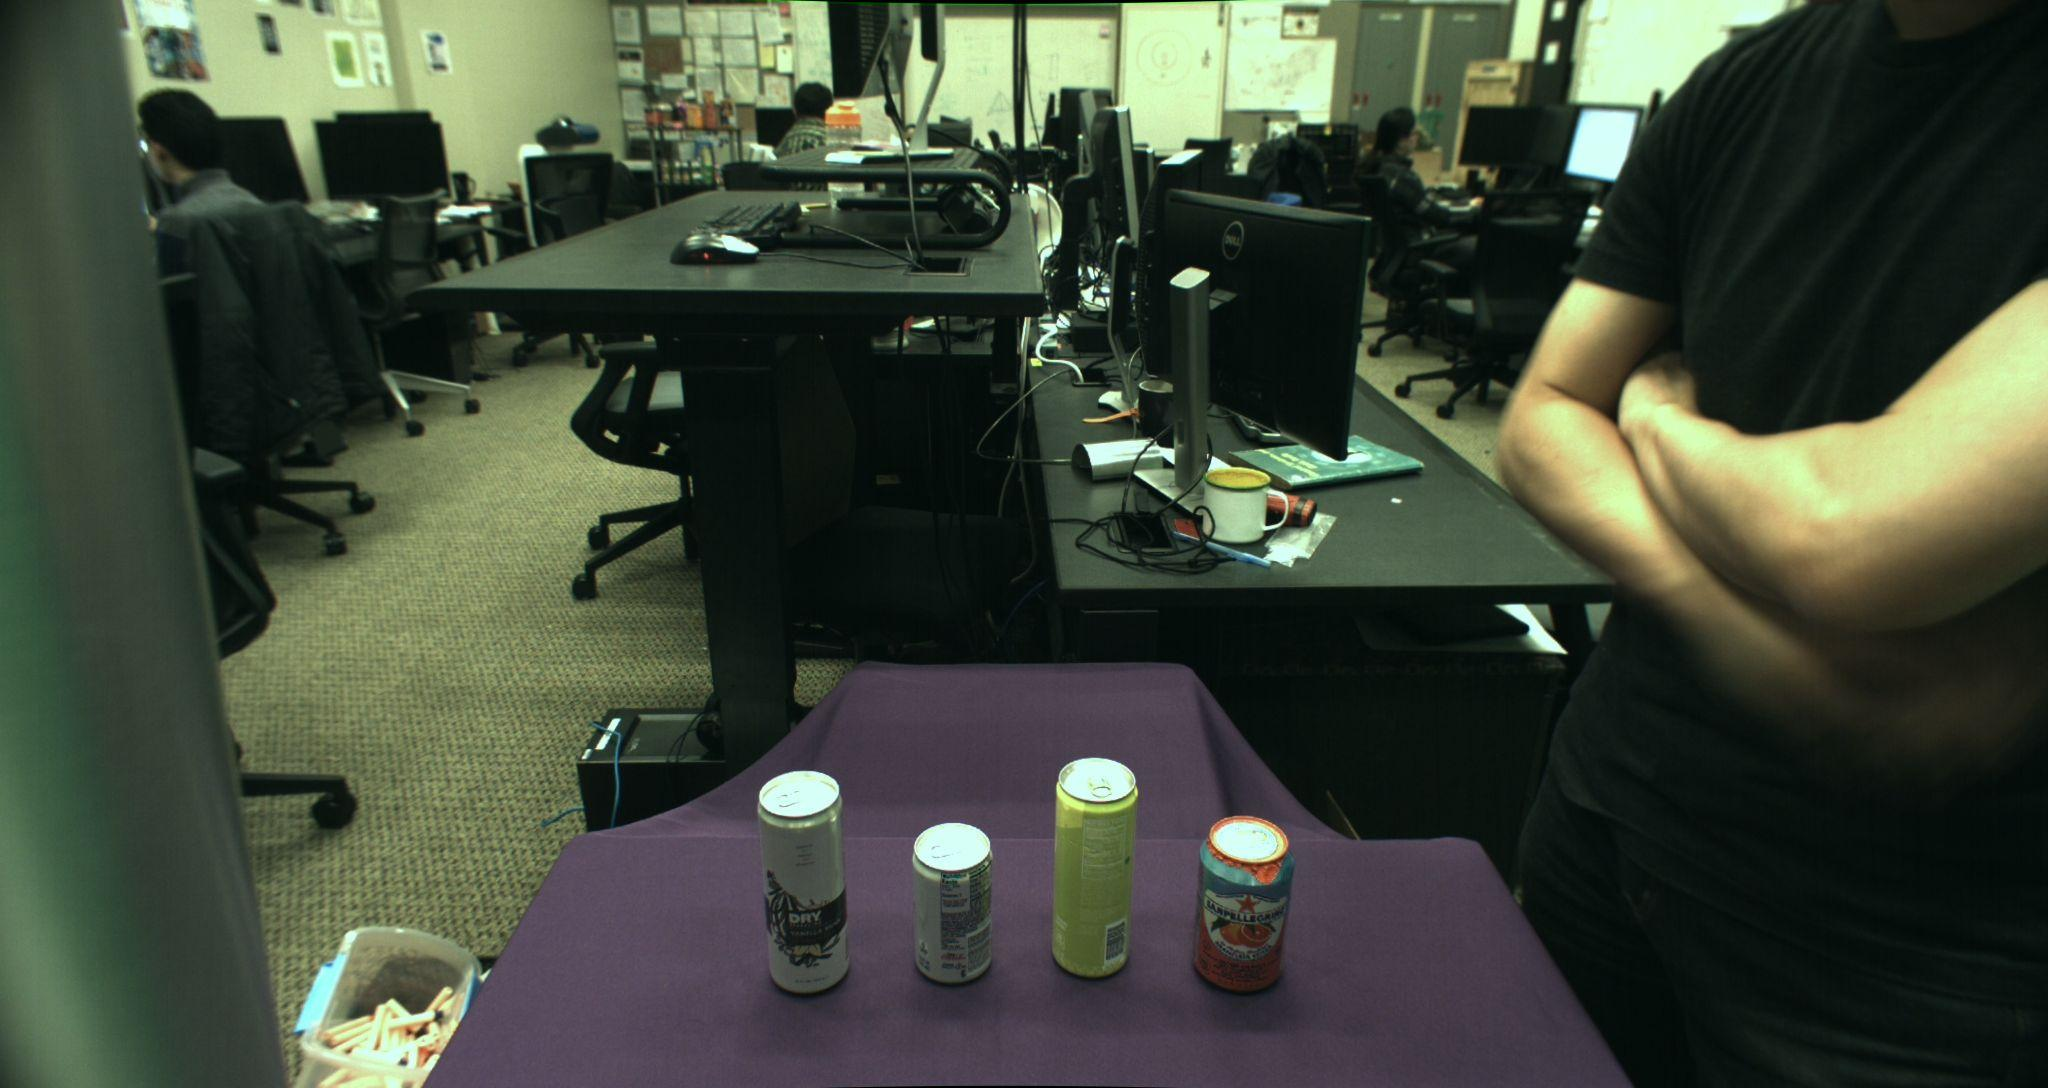can_diet_coke_small: (912, 822, 996, 986)
can_dry_sparkling_vanilla_bean: (757, 770, 849, 995)
can_izze_fusions_lemon_lime: (1050, 756, 1139, 980)
can_sanpellegrino_blood_orange: (1191, 812, 1295, 995)
